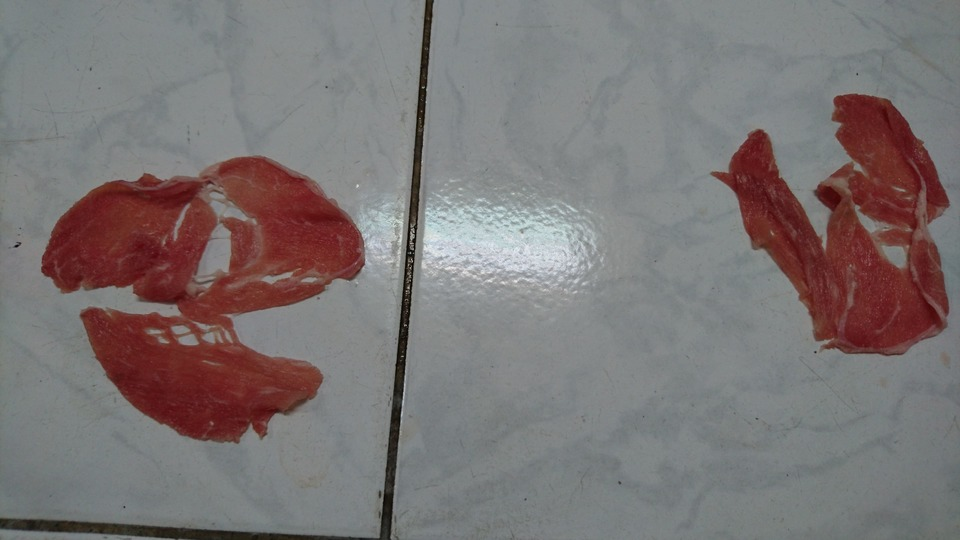restructured meat: (49, 165, 367, 456), (690, 91, 959, 370)
